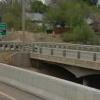Bridge: (4, 29, 98, 77)
